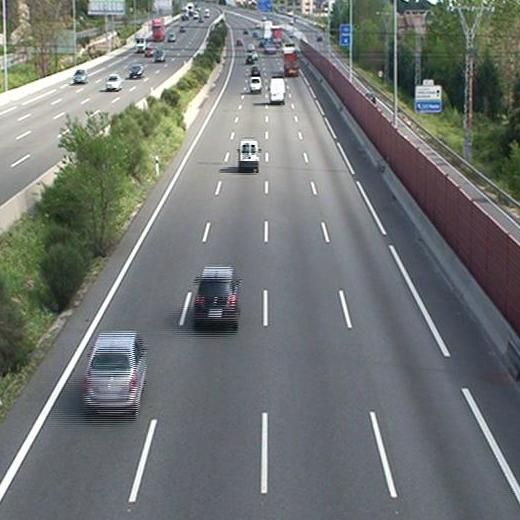car: (84, 331, 146, 414), (194, 266, 242, 327), (250, 64, 260, 75)
truck: (284, 47, 299, 79)
van: (238, 140, 260, 174), (268, 77, 286, 106), (249, 77, 263, 93)
